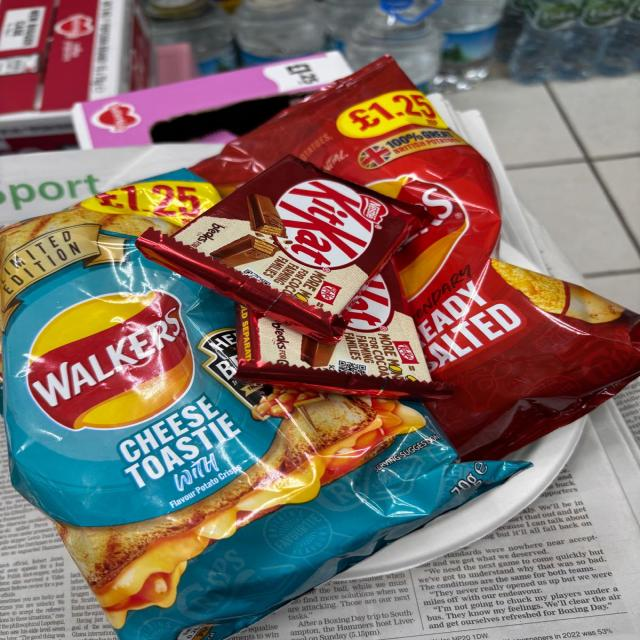crisp: (0, 192, 424, 640), (245, 52, 640, 434)
kitkat: (131, 158, 421, 330), (238, 244, 446, 394)
